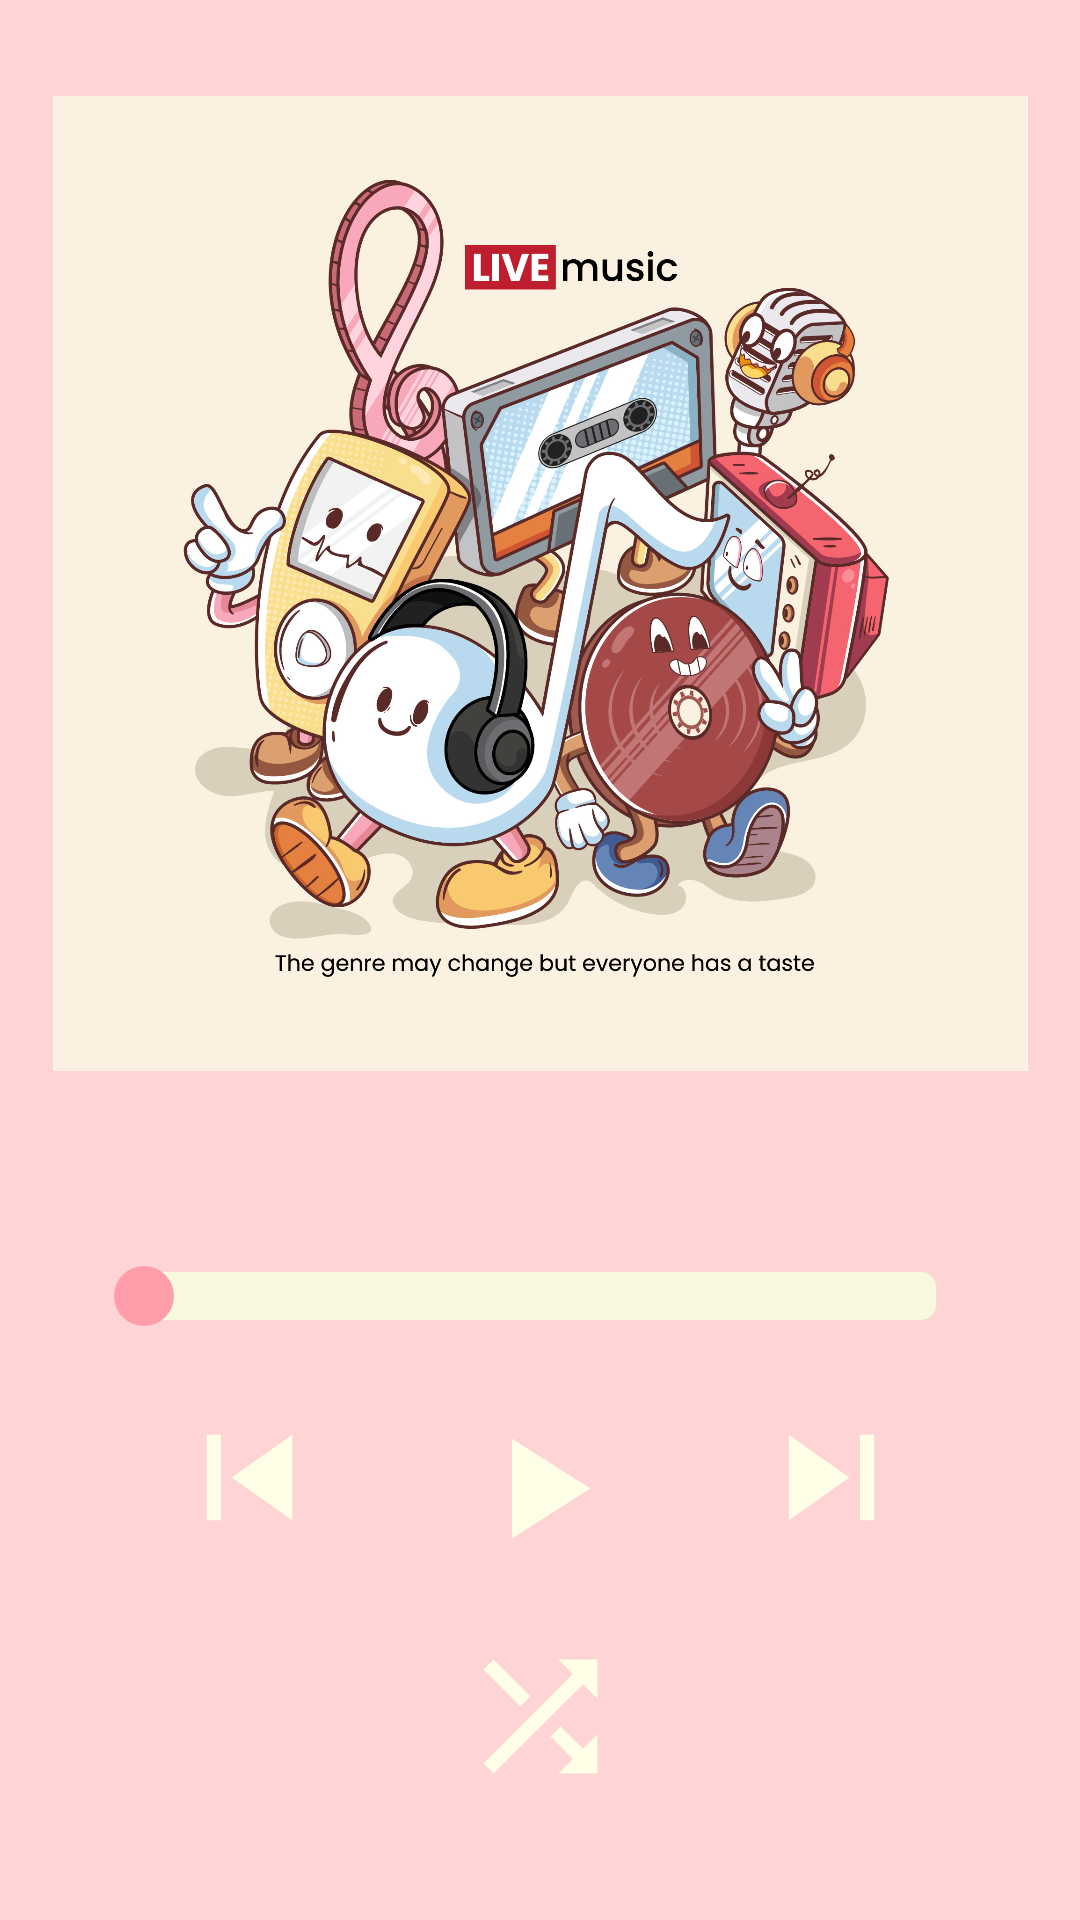

Screen size 1080px x 1920px. Icon name, then its center in pixels as (x,y):
next: (831,1477)
play: (551,1488)
previous: (249,1477)
shuffle: (540,1716)
